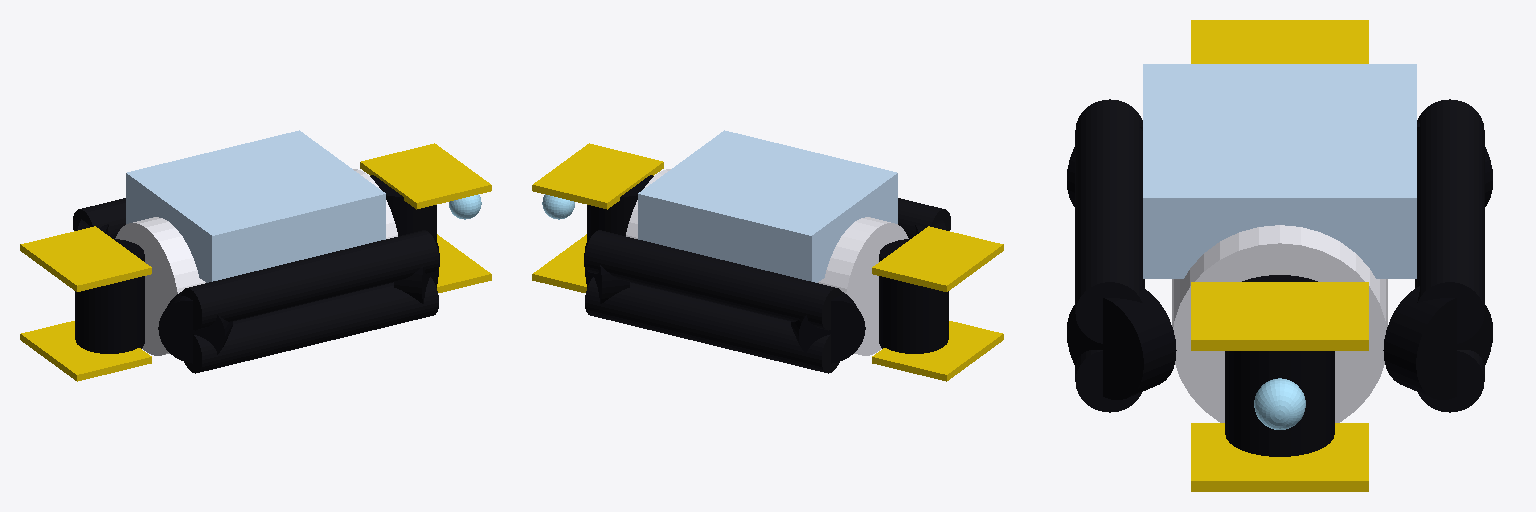
URDF robot description (custom_auv_bluerov2):
<?xml version="1.0" ?>
<!-- ================================================================= -->
<!-- Custom 6-Thruster Subsea AUV URDF Model for Gazebo & ROS 2       -->
<!-- ================================================================= -->
<robot name="custom_auv_bluerov2">

  <!-- Base footprint -->
  <link name="base_footprint"/>

  <joint name="base_footprint_joint" type="fixed">
    <parent link="base_footprint"/>
    <child link="base_link"/>
    <origin xyz="0 0 0" rpy="0 0 0"/>
  </joint>

  <!-- 1. Central Pressure Hull Body Link -->
  <link name="base_link">
    <inertial>
      <mass value="22.5"/>
      <origin xyz="0 0 0" rpy="0 0 0"/>
      <inertia ixx="0.12" ixy="0.0" ixz="0.0" iyy="0.22" iyz="0.0" izz="0.24"/>
    </inertial>

    <!-- Main White Cylindrical Core -->
    <visual>
      <origin xyz="0 0 0" rpy="0 1.5708 0"/>
      <geometry>
        <cylinder radius="0.075" length="0.28"/>
      </geometry>
      <material name="white">
        <color rgba="0.95 0.95 0.98 1.0"/>
      </material>
    </visual>
    <collision>
      <origin xyz="0 0 0" rpy="0 1.5708 0"/>
      <geometry>
        <cylinder radius="0.075" length="0.28"/>
      </geometry>
    </collision>

    <!-- Top Acrylic Electronics Box -->
    <visual>
      <origin xyz="0 0 0.065" rpy="0 0 0"/>
      <geometry>
        <box size="0.22 0.19 0.062"/>
      </geometry>
      <material name="clear_acrylic">
        <color rgba="0.8 0.9 1.0 0.55"/>
      </material>
    </visual>
  </link>

  <!-- 2. Dual Stacked Carbon Fiber Battery Cylinders (Port & Starboard) -->
  <!-- Port Side Carbon Tubes (Left: +Y) -->
  <link name="port_battery_tubes">
    <visual>
      <origin xyz="0 0.118 0.026" rpy="0 1.5708 0"/>
      <geometry>
        <cylinder radius="0.024" length="0.30"/>
      </geometry>
      <material name="carbon_black">
        <color rgba="0.1 0.1 0.12 1.0"/>
      </material>
    </visual>
    <visual>
      <origin xyz="0 0.118 -0.026" rpy="0 1.5708 0"/>
      <geometry>
        <cylinder radius="0.024" length="0.30"/>
      </geometry>
      <material name="carbon_black">
        <color rgba="0.1 0.1 0.12 1.0"/>
      </material>
    </visual>
    <collision>
      <origin xyz="0 0.118 0" rpy="0 1.5708 0"/>
      <geometry>
        <box size="0.30 0.052 0.08"/>
      </geometry>
    </collision>
  </link>
  <joint name="port_tubes_joint" type="fixed">
    <parent link="base_link"/>
    <child link="port_battery_tubes"/>
    <origin xyz="0 0 0" rpy="0 0 0"/>
  </joint>

  <!-- Starboard Side Carbon Tubes (Right: -Y) -->
  <link name="stbd_battery_tubes">
    <visual>
      <origin xyz="0 -0.118 0.026" rpy="0 1.5708 0"/>
      <geometry>
        <cylinder radius="0.024" length="0.30"/>
      </geometry>
      <material name="carbon_black">
        <color rgba="0.1 0.1 0.12 1.0"/>
      </material>
    </visual>
    <visual>
      <origin xyz="0 -0.118 -0.026" rpy="0 1.5708 0"/>
      <geometry>
        <cylinder radius="0.024" length="0.30"/>
      </geometry>
      <material name="carbon_black">
        <color rgba="0.1 0.1 0.12 1.0"/>
      </material>
    </visual>
    <collision>
      <origin xyz="0 -0.118 0" rpy="0 1.5708 0"/>
      <geometry>
        <box size="0.30 0.052 0.08"/>
      </geometry>
    </collision>
  </link>
  <joint name="stbd_tubes_joint" type="fixed">
    <parent link="base_link"/>
    <child link="stbd_battery_tubes"/>
    <origin xyz="0 0 0" rpy="0 0 0"/>
  </joint>

  <!-- 3. Front & Rear Aerodynamic Yellow Cowlings -->
  <!-- Front Yellow Cowling (+X = 0.18) -->
  <link name="front_cowl">
    <!-- Top Yellow Visor -->
    <visual>
      <origin xyz="0.035 0 0.054" rpy="0 0 0"/>
      <geometry>
        <box size="0.095 0.124 0.008"/>
      </geometry>
      <material name="marine_yellow">
        <color rgba="0.95 0.82 0.05 1.0"/>
      </material>
    </visual>
    <!-- Bottom Yellow Lip -->
    <visual>
      <origin xyz="0.035 0 -0.054" rpy="0 0 0"/>
      <geometry>
        <box size="0.095 0.124 0.008"/>
      </geometry>
      <material name="marine_yellow">
        <color rgba="0.95 0.82 0.05 1.0"/>
      </material>
    </visual>
    <!-- Black Vertical Duct Tube -->
    <visual>
      <origin xyz="0.005 0 0" rpy="0 0 0"/>
      <geometry>
        <cylinder radius="0.038" length="0.108"/>
      </geometry>
      <material name="duct_black">
        <color rgba="0.08 0.08 0.1 1.0"/>
      </material>
    </visual>
    <!-- Front Camera Acrylic Dome -->
    <visual>
      <origin xyz="0.085 0 0.01" rpy="0 1.5708 0"/>
      <geometry>
        <sphere radius="0.018"/>
      </geometry>
      <material name="dome_lens">
        <color rgba="0.7 0.9 1.0 0.7"/>
      </material>
    </visual>
  </link>
  <joint name="front_cowl_joint" type="fixed">
    <parent link="base_link"/>
    <child link="front_cowl"/>
    <origin xyz="0.18 0 0" rpy="0 0 0"/>
  </joint>

  <!-- Rear Yellow Cowling (-X = -0.18) -->
  <link name="rear_cowl">
    <visual>
      <origin xyz="-0.035 0 0.054" rpy="0 0 0"/>
      <geometry>
        <box size="0.095 0.124 0.008"/>
      </geometry>
      <material name="marine_yellow">
        <color rgba="0.95 0.82 0.05 1.0"/>
      </material>
    </visual>
    <visual>
      <origin xyz="-0.035 0 -0.054" rpy="0 0 0"/>
      <geometry>
        <box size="0.095 0.124 0.008"/>
      </geometry>
      <material name="marine_yellow">
        <color rgba="0.95 0.82 0.05 1.0"/>
      </material>
    </visual>
    <visual>
      <origin xyz="-0.005 0 0" rpy="0 0 0"/>
      <geometry>
        <cylinder radius="0.038" length="0.108"/>
      </geometry>
      <material name="duct_black">
        <color rgba="0.08 0.08 0.1 1.0"/>
      </material>
    </visual>
  </link>
  <joint name="rear_cowl_joint" type="fixed">
    <parent link="base_link"/>
    <child link="rear_cowl"/>
    <origin xyz="-0.18 0 0" rpy="0 0 0"/>
  </joint>

  <!-- 4. 4x Horizontal 45° Vectored Thrusters at Corners -->
  <!-- T1: Front-Left (+X, +Y, 45°) -->
  <link name="thruster_1">
    <visual>
      <origin xyz="0 0 0" rpy="0 1.5708 0.7854"/>
      <geometry>
        <cylinder radius="0.038" length="0.032"/>
      </geometry>
      <material name="duct_black"/>
    </visual>
  </link>
  <joint name="thruster_1_joint" type="fixed">
    <parent link="base_link"/>
    <child link="thruster_1"/>
    <origin xyz="0.14 0.11 0" rpy="0 0 0"/>
  </joint>

  <!-- T2: Front-Right (+X, -Y, -45°) -->
  <link name="thruster_2">
    <visual>
      <origin xyz="0 0 0" rpy="0 1.5708 -0.7854"/>
      <geometry>
        <cylinder radius="0.038" length="0.032"/>
      </geometry>
      <material name="duct_black"/>
    </visual>
  </link>
  <joint name="thruster_2_joint" type="fixed">
    <parent link="base_link"/>
    <child link="thruster_2"/>
    <origin xyz="0.14 -0.11 0" rpy="0 0 0"/>
  </joint>

  <!-- T3: Rear-Left (-X, +Y, 135°) -->
  <link name="thruster_3">
    <visual>
      <origin xyz="0 0 0" rpy="0 1.5708 2.3562"/>
      <geometry>
        <cylinder radius="0.038" length="0.032"/>
      </geometry>
      <material name="duct_black"/>
    </visual>
  </link>
  <joint name="thruster_3_joint" type="fixed">
    <parent link="base_link"/>
    <child link="thruster_3"/>
    <origin xyz="-0.14 0.11 0" rpy="0 0 0"/>
  </joint>

  <!-- T4: Rear-Right (-X, -Y, -135°) -->
  <link name="thruster_4">
    <visual>
      <origin xyz="0 0 0" rpy="0 1.5708 -2.3562"/>
      <geometry>
        <cylinder radius="0.038" length="0.032"/>
      </geometry>
      <material name="duct_black"/>
    </visual>
  </link>
  <joint name="thruster_4_joint" type="fixed">
    <parent link="base_link"/>
    <child link="thruster_4"/>
    <origin xyz="-0.14 -0.11 0" rpy="0 0 0"/>
  </joint>

  <!-- Gazebo Material Colors and Physics Properties -->
  <gazebo reference="base_link">
    <material>Gazebo/White</material>
  </gazebo>
  <gazebo reference="front_cowl">
    <material>Gazebo/Yellow</material>
  </gazebo>
  <gazebo reference="rear_cowl">
    <material>Gazebo/Yellow</material>
  </gazebo>
  <gazebo reference="port_battery_tubes">
    <material>Gazebo/FlatBlack</material>
  </gazebo>
  <gazebo reference="stbd_battery_tubes">
    <material>Gazebo/FlatBlack</material>
  </gazebo>

</robot>

--- Facts derived from the render (not from the file) ---
Views: 3 orthographic renders of the robot side by side, from view 1: azimuth 30°, elevation 25°; view 2: azimuth 150°, elevation 25°; view 3: azimuth 270°, elevation 25°.
Robot: custom_auv_bluerov2 — 10 links, 9 joints (9 fixed); root link base_footprint; default pose: all joints at 0.
Visible links, largest first — view 1: base_link, stbd_battery_tubes, rear_cowl, front_cowl, thruster_4, port_battery_tubes, thruster_2; view 2: base_link, port_battery_tubes, rear_cowl, front_cowl, thruster_3, stbd_battery_tubes, thruster_1; view 3: base_link, front_cowl, port_battery_tubes, stbd_battery_tubes, rear_cowl, thruster_1, thruster_2.
Boxes of the visible links, x1,y1,x2,y2 form: base_link: (115,130,397,355); stbd_battery_tubes: (181,230,438,373); rear_cowl: (20,226,151,381); front_cowl: (360,143,491,292); thruster_4: (158,292,232,363); port_battery_tubes: (73,198,125,238); thruster_2: (394,240,439,303); base_link: (626,130,908,355); port_battery_tubes: (585,230,842,373); rear_cowl: (872,226,1003,381); front_cowl: (532,143,663,292); thruster_3: (791,292,865,363); stbd_battery_tubes: (898,198,950,238); thruster_1: (584,240,629,303); base_link: (1143,64,1416,422); front_cowl: (1191,275,1368,491); port_battery_tubes: (1415,99,1484,412); stbd_battery_tubes: (1075,99,1144,412); rear_cowl: (1191,20,1368,63); thruster_1: (1383,286,1492,399); thruster_2: (1067,286,1176,399).
Size in the robot's own frame: 0.5455 by 0.2964 by 0.171 metres.
Geometry: primitives only (box / cylinder / sphere), no mesh files.
